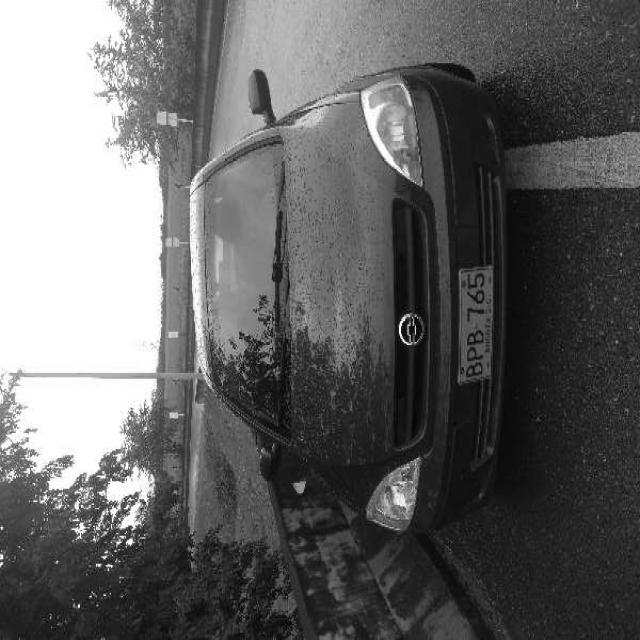plate: (456, 262, 496, 388)
